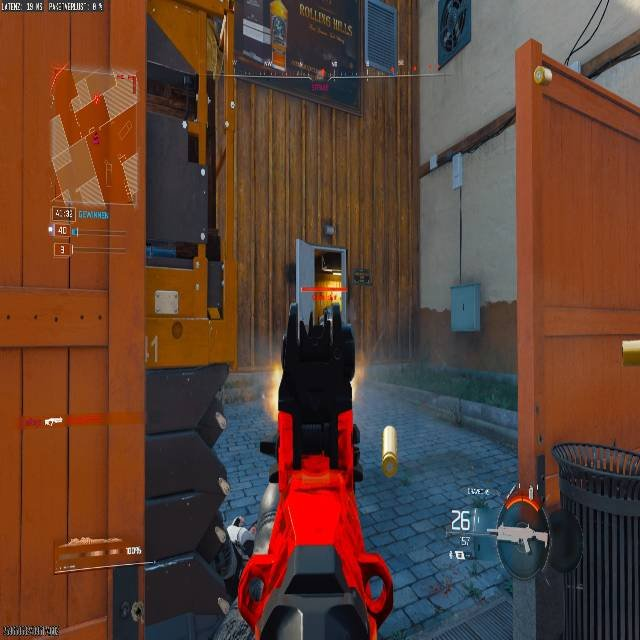player: (320, 304, 339, 326)
